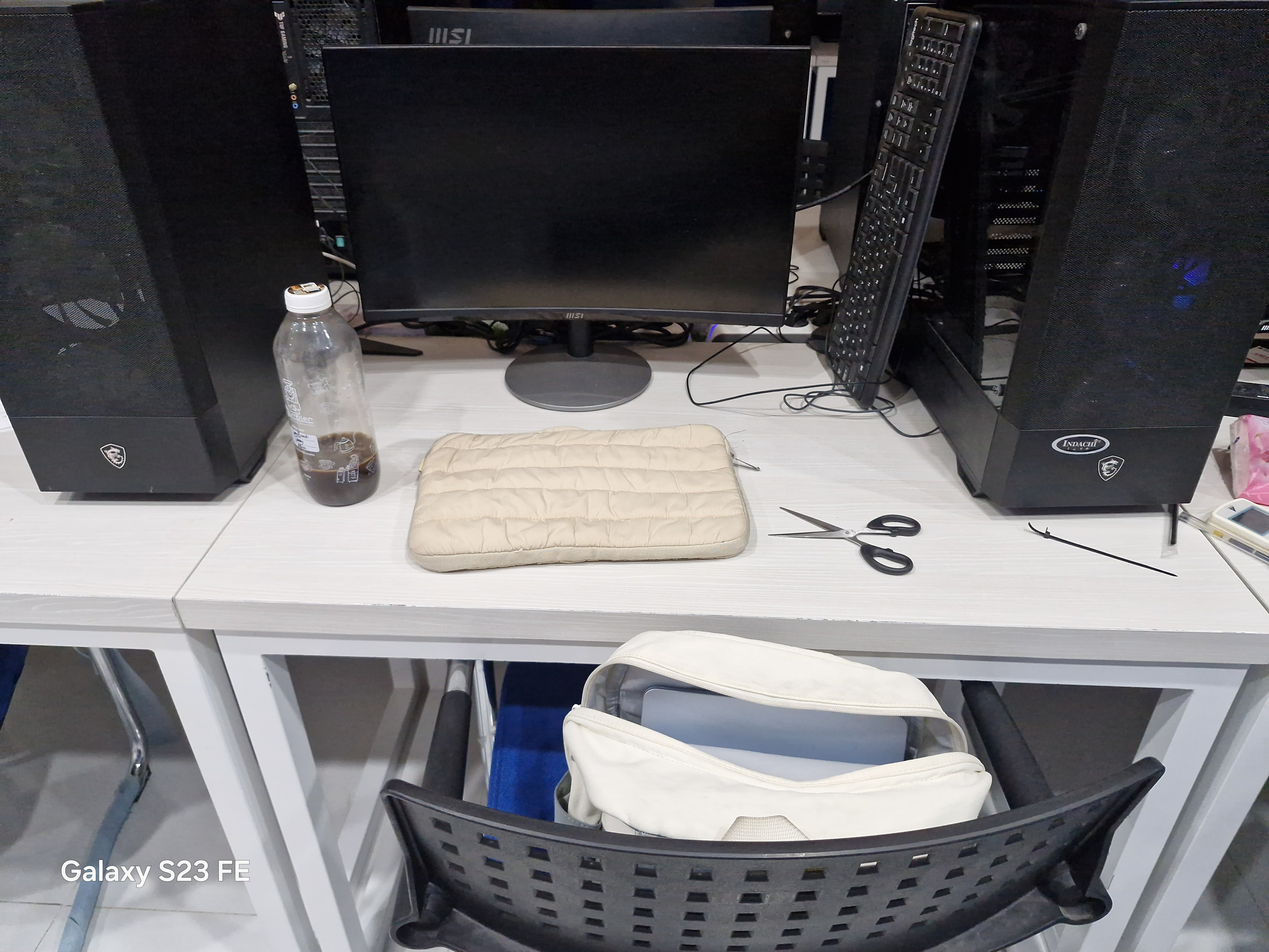bottle: (274, 282, 379, 506)
chair: (385, 758, 1162, 951)
handbag: (565, 631, 990, 840)
keyboard: (826, 6, 980, 408)
scissors: (780, 508, 920, 574)
table-merged: (0, 352, 1268, 666)
tv: (323, 10, 808, 411)
